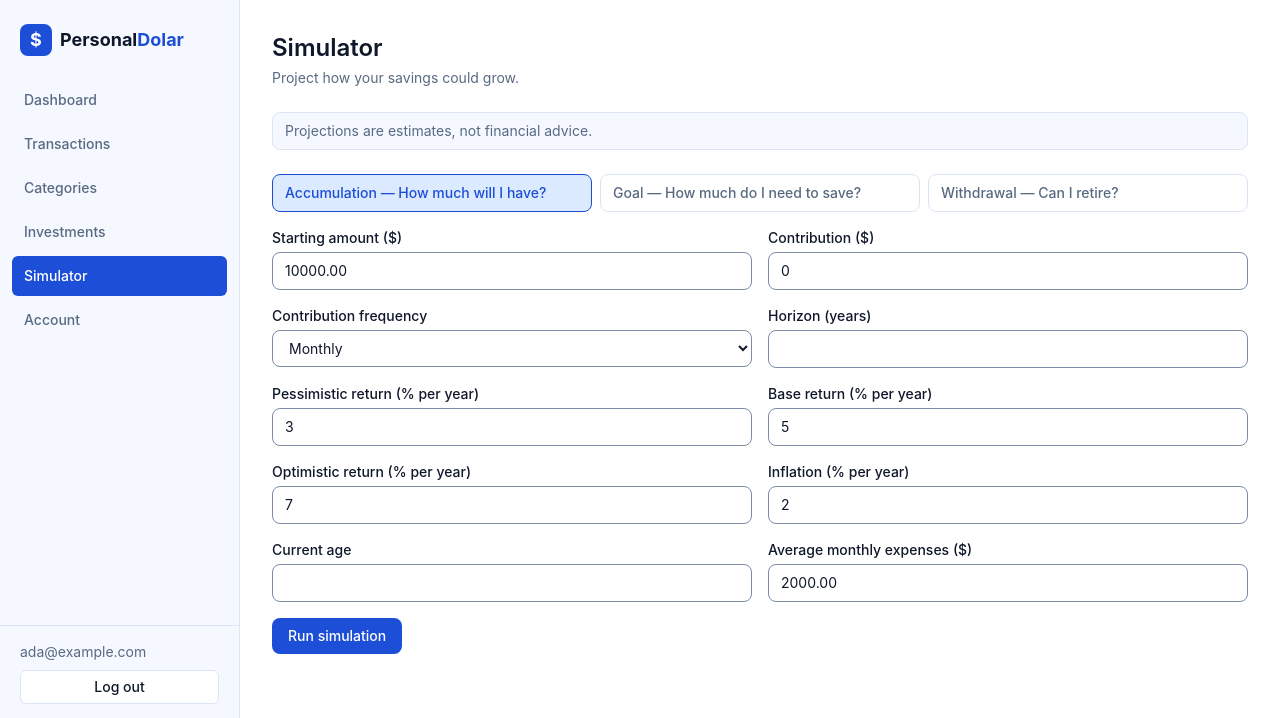
Test: SimulatorPage › shows the three tabs and pre-fills the form from the defaults
expect the element named "Simulation mode" is shown: met, box [272,174,1248,212]
expect the field labelled "Starting amount ($)" holds "10000.00": met, box [272,252,752,290]
Click the tab "Goal — How much do I need to save?". click: (760, 193)
box: [600,174,920,212]
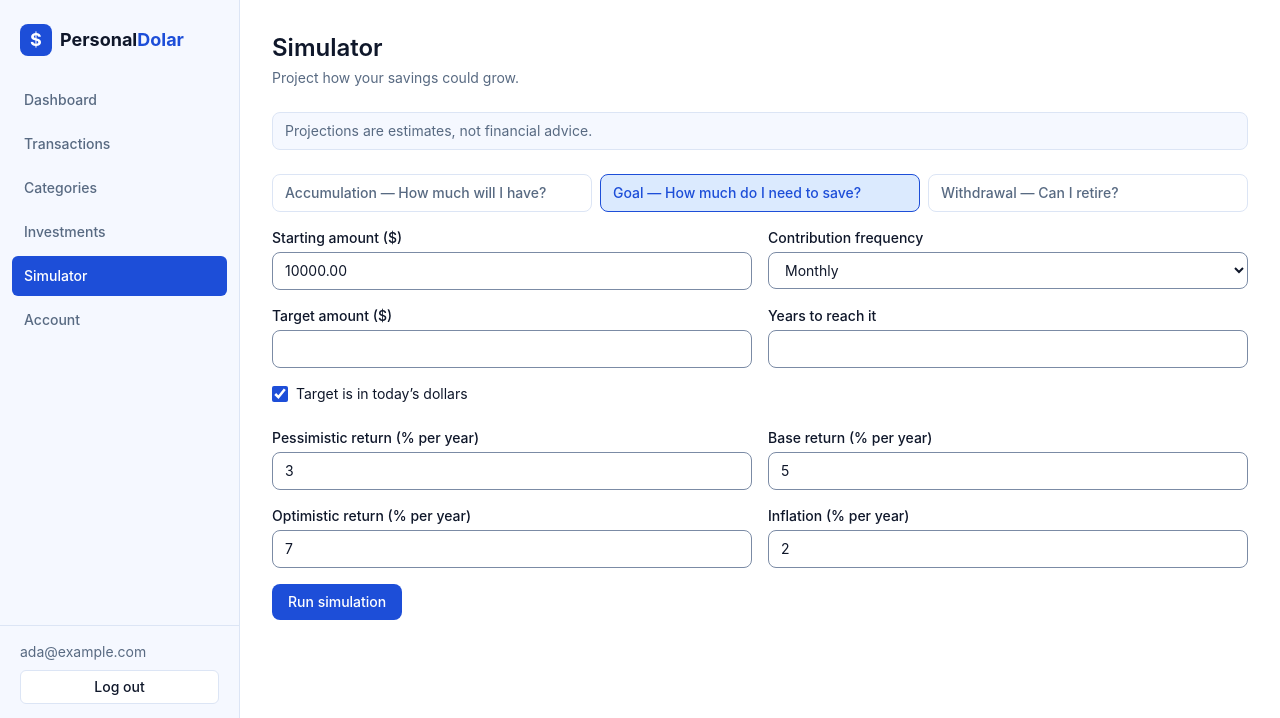
expect the field labelled "Years to reach it" is shown: met, box [768,330,1248,368]
expect the field labelled "Target amount ($)" is shown: met, box [272,330,752,368]
expect the checkbox labelled "Target is in today’s dollars" is checked: met, box [272,386,288,402]
Click the tab "Withdrawal — Can I retire?". click: (1088, 193)
box: [928,174,1248,212]
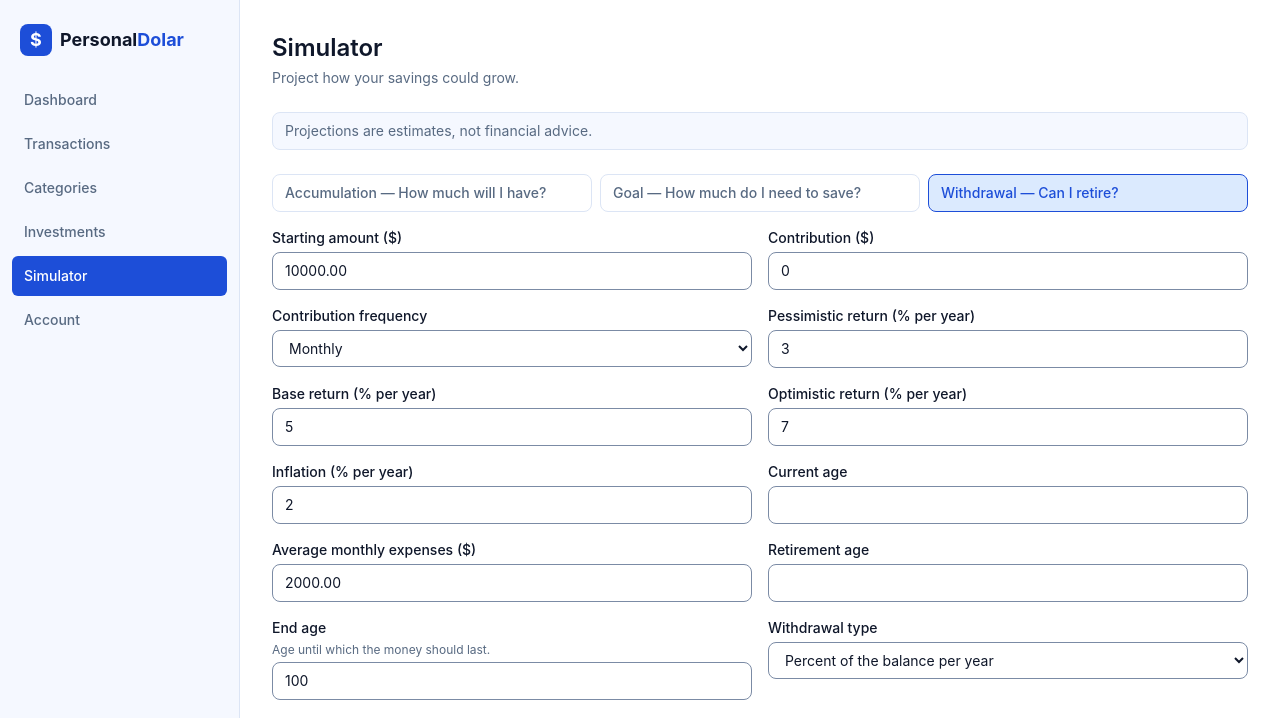
expect the field labelled "Retirement age" is shown: met, box [768,564,1248,602]
expect the field labelled "End age" holds "100": met, box [272,662,752,700]
expect the dropdown labelled "Withdrawal type" is shown: met, box [768,642,1248,679]
